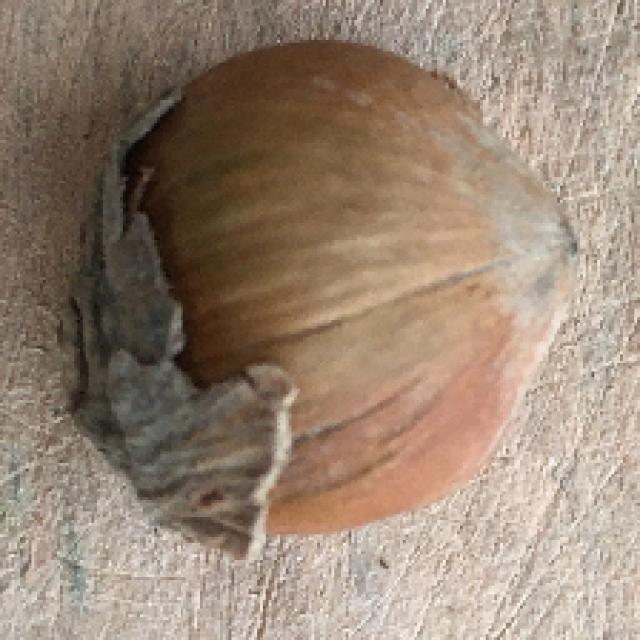damagedHazelnut: (51, 45, 590, 532)
